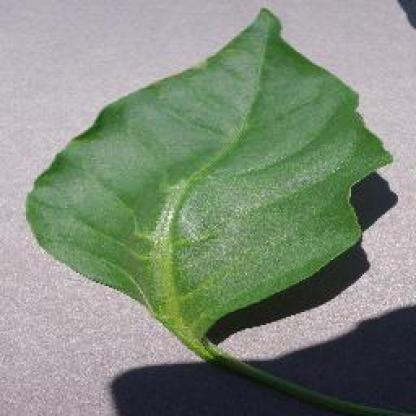good leaf: (46, 18, 340, 244)
